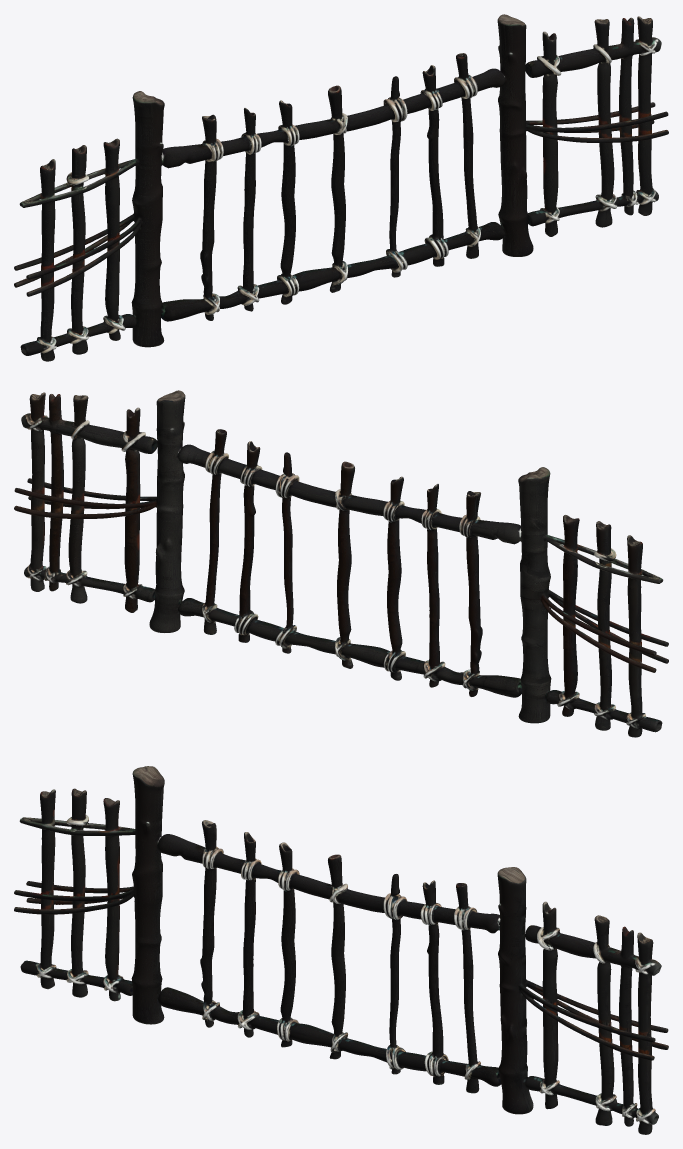
Rendered from barrier.glb.
3 views of the same model, one above another, from view 1: azimuth 30°, elevation 25°; view 2: azimuth 150°, elevation 25°; view 3: azimuth 330°, elevation 25° (orthographic).
Bounding box in the file's own units: 1.9 × 0.7033 × 0.0905.
Materials: 1 (1 with a texture image).
